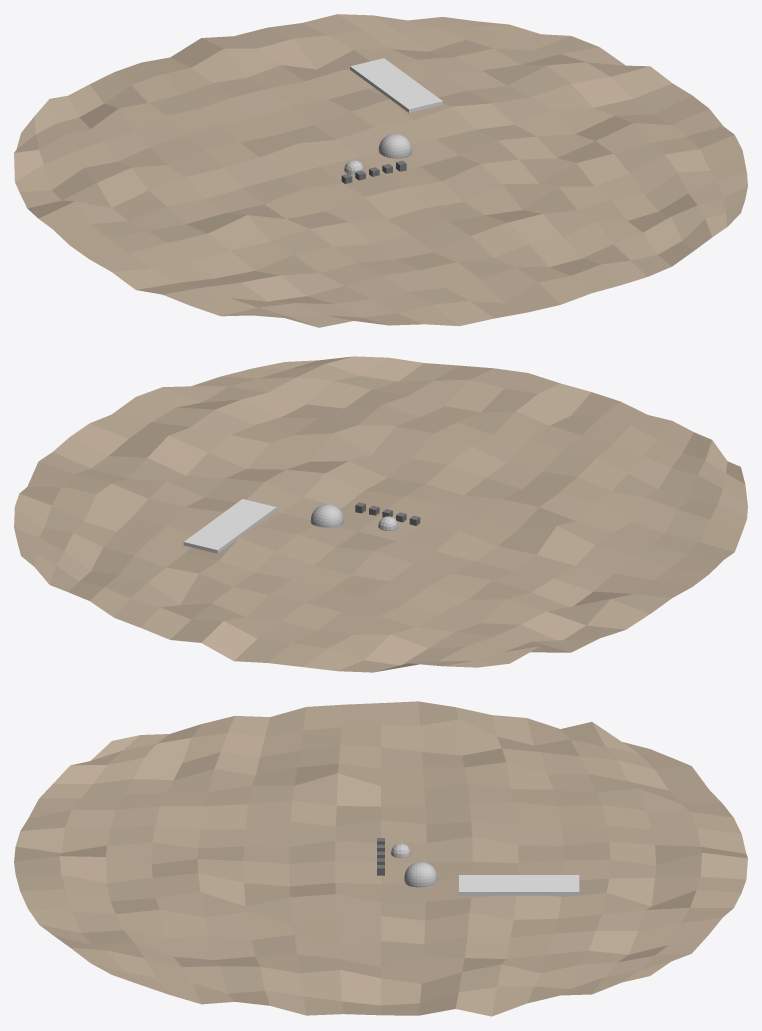
The picture shows the model from 3 angles, top to bottom: view 1: azimuth 30°, elevation 25°; view 2: azimuth 150°, elevation 25°; view 3: azimuth 270°, elevation 25°; orthographic projection. The views are drawn at different scales.
Parts seen in each view (by area): view 1: Terrain, Skyscraper; view 2: Terrain, Skyscraper; view 3: Terrain, Skyscraper.
Boxes of the visible parts, bbox=[...] form: Terrain: bbox=[14, 14, 747, 327]; Skyscraper: bbox=[378, 134, 411, 158]; Terrain: bbox=[14, 356, 747, 672]; Skyscraper: bbox=[310, 504, 344, 527]; Terrain: bbox=[14, 701, 747, 1016]; Skyscraper: bbox=[404, 862, 437, 887].
Size of the model in its own units: 183 by 9.7 by 183.
